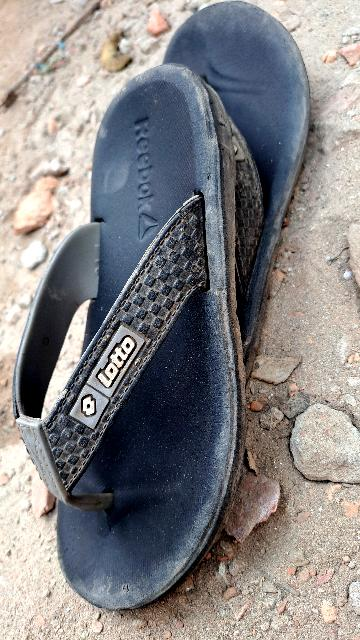sandal: (1, 0, 329, 633)
